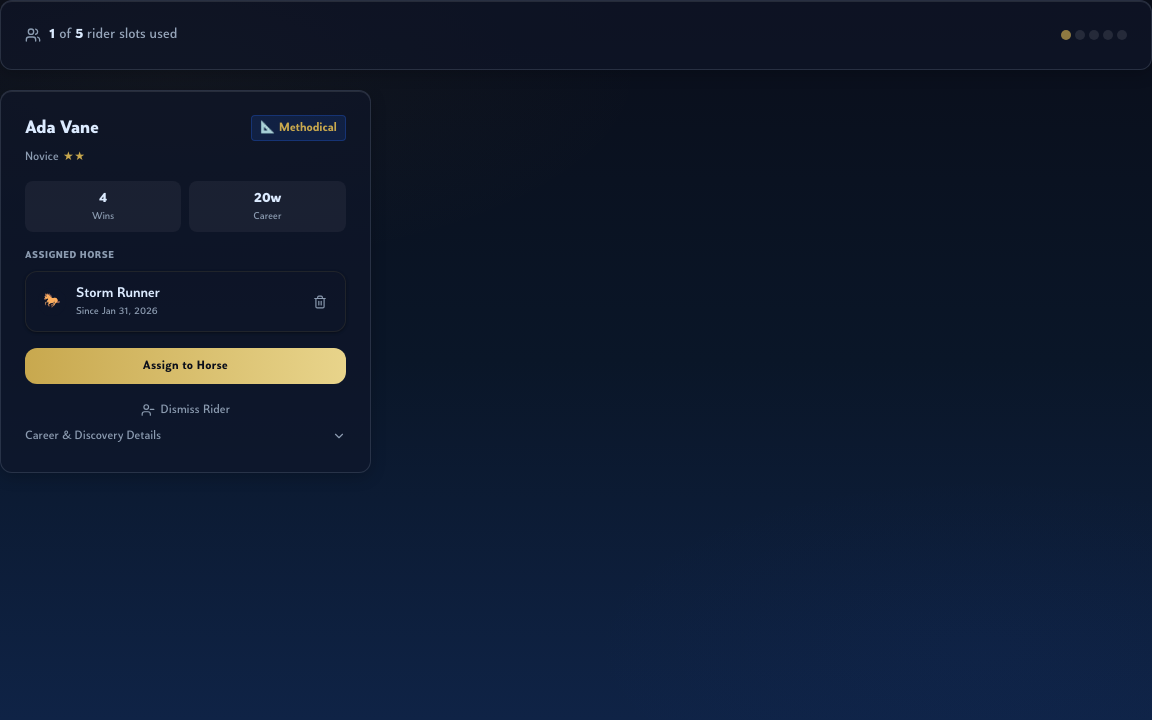
Scenario: MyRidersDashboard — silent-mutation feedback (Equoria-5urmo) › a failed unassign shows an announced error beside the control (no raw server leak)
This screenshot has width=1152, height=720.
Expected: the element with test id "rider-grid" is shown, [0,90,371,473]
Note: The assignment row's Trash2 control (aria-label "Unassign rider").
Click the button named "unassign rider".
click(320, 302)  # box [307,288,333,314]
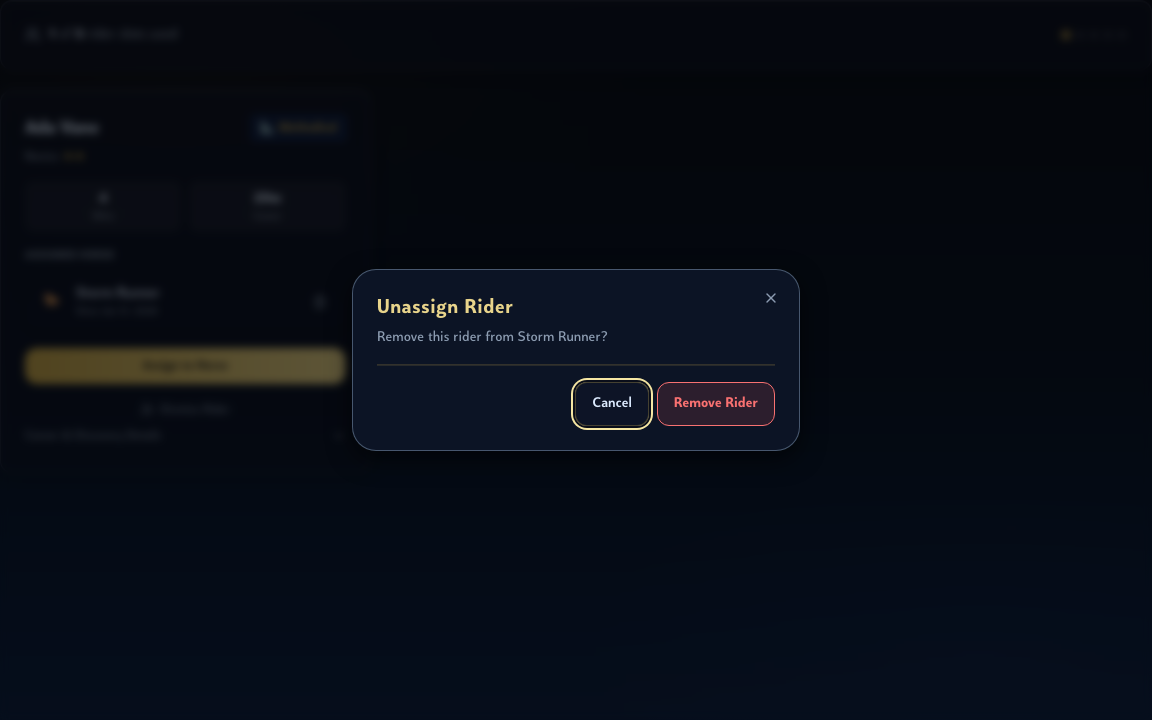
Note: Confirm in the dialog (destructive button text is "Remove Rider").
Click the button "Remove Rider".
click(716, 404)  # box [657,382,775,426]
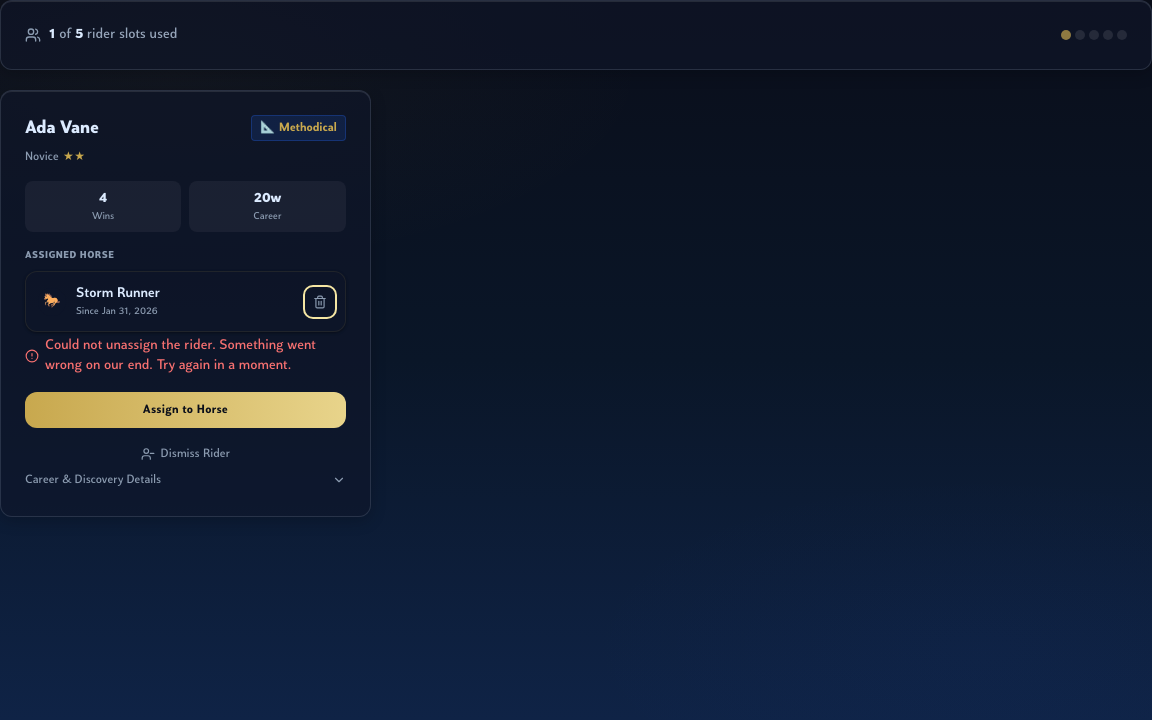
Now the text "Could not unassign the rider" is shown, box [45,338,316,373]
